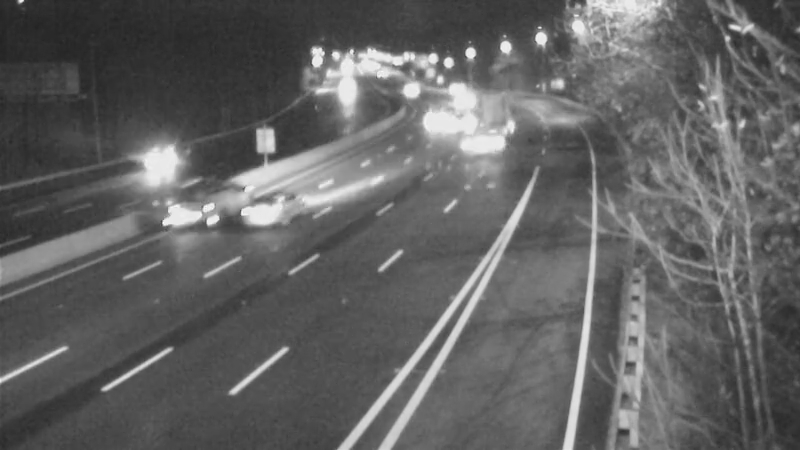vehicle: (231, 175, 311, 255), (149, 167, 229, 247), (126, 117, 206, 197), (425, 62, 475, 112), (388, 63, 438, 113), (435, 79, 485, 129), (409, 87, 459, 137), (435, 99, 485, 149), (459, 115, 509, 165)
